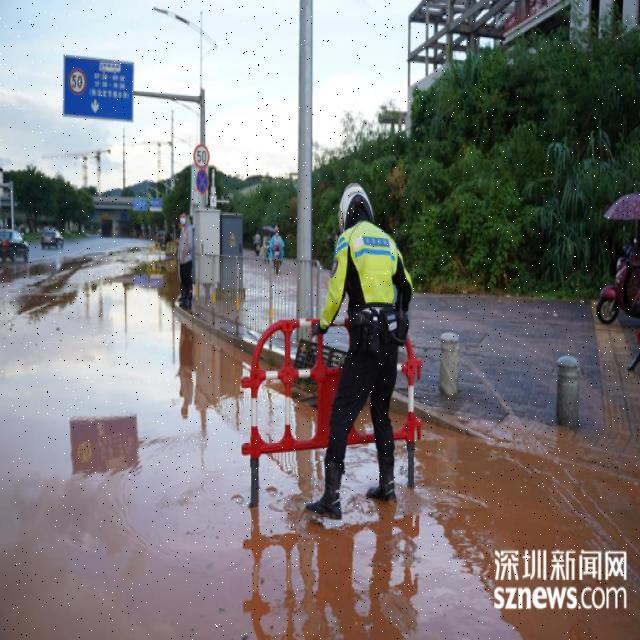rescuer: (315, 175, 410, 541)
